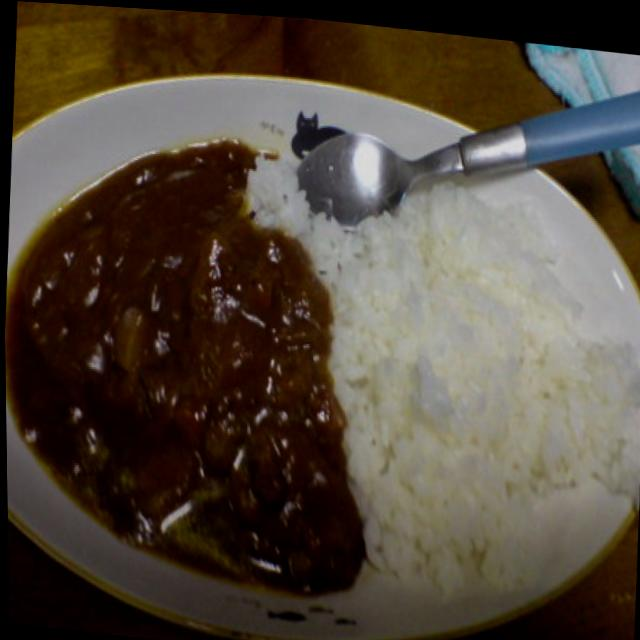牛肉菜式: (0, 40, 640, 640)
